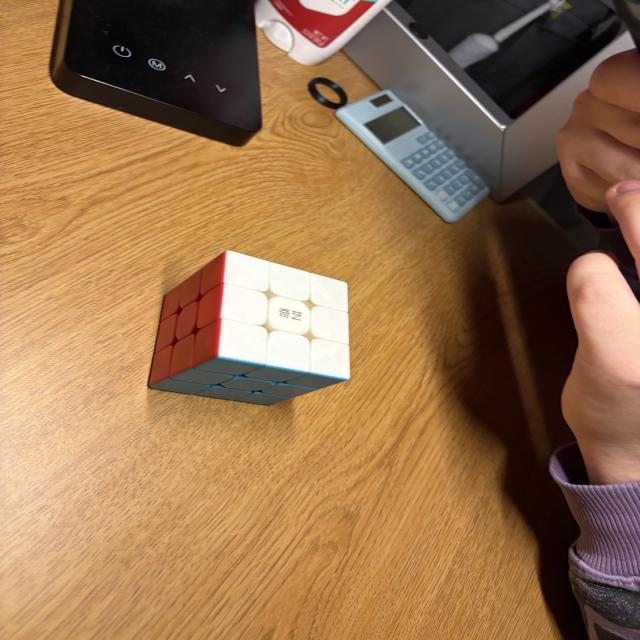Rubiks Cube: (149, 251, 349, 405)
